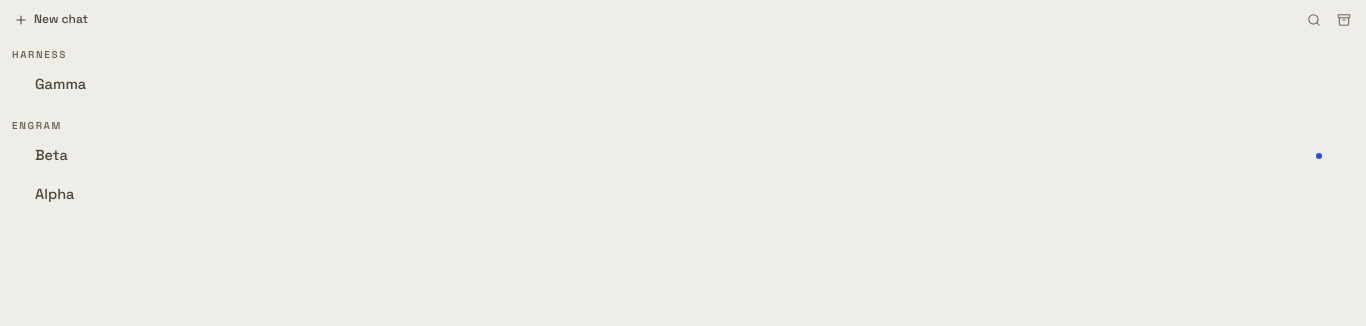
SessionList › the archived toggle adds a separated Archived section beneath the active list
Expected: the text "Alpha" is shown, [35,185,74,203]
Expected: the text "Delta" is not shown
Click the button named "Show archived" at (1344, 20), box [1330,6,1358,34]
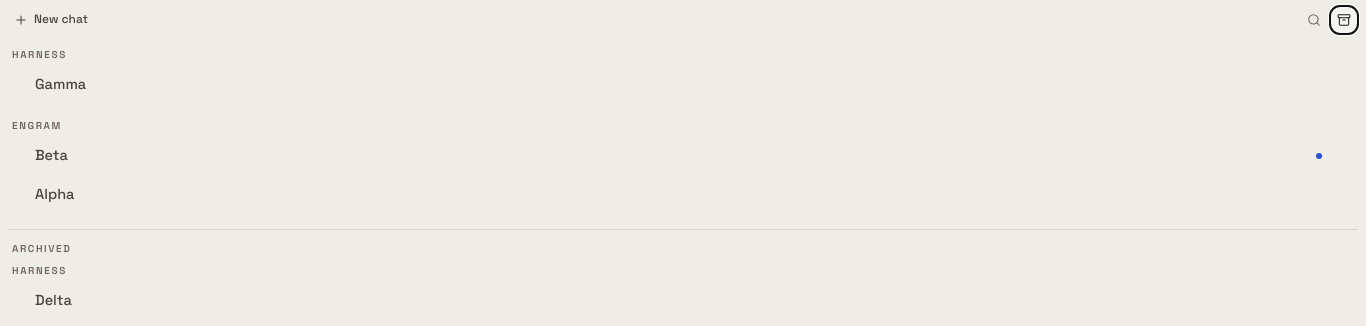
Expected: the text "Alpha" is shown, [35,185,74,203]
Now the text "Delta" is shown, box [35,291,72,309]
